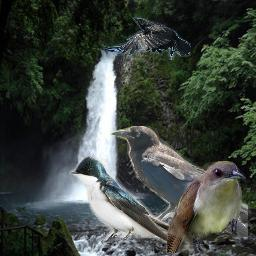Crow: (110, 126, 248, 237), (102, 17, 191, 60)
Cuckoo: (166, 161, 246, 253)
Swallow: (69, 154, 190, 247)
